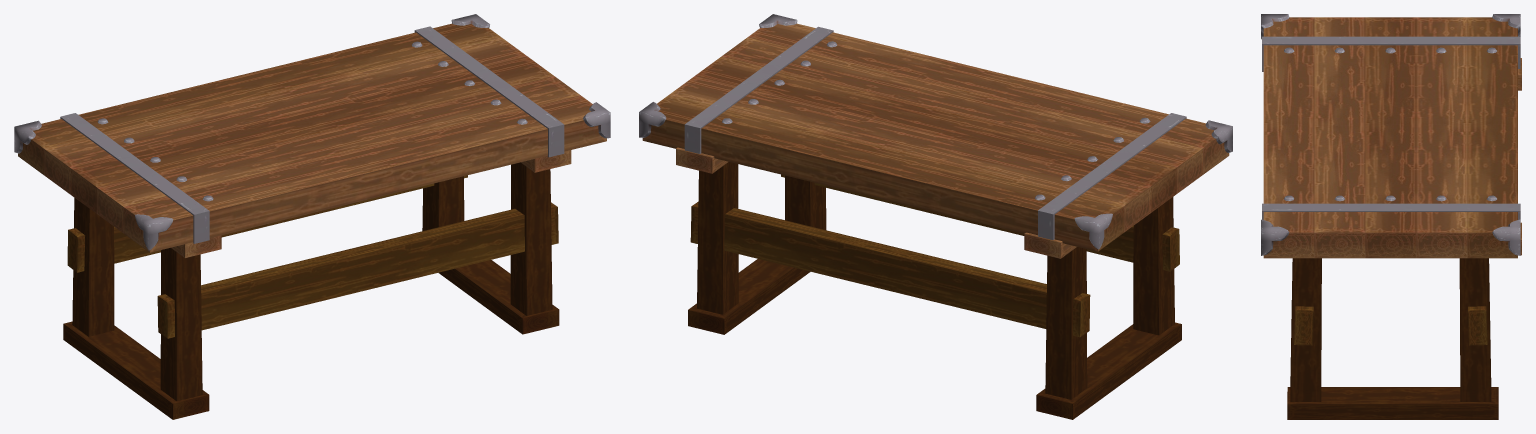
Rendered from Workbench.gltf.
3 renders of one model, left to right at view 1: azimuth 30°, elevation 25°; view 2: azimuth 150°, elevation 25°; view 3: azimuth 270°, elevation 25°, orthographic. The views are drawn at different scales.
Visible parts, largest first — view 1: Workbench; view 2: Workbench; view 3: Workbench.
Part boxes in pixels (x1,y1,x2,y2): Workbench: (14, 14, 610, 419); Workbench: (639, 14, 1232, 419); Workbench: (1261, 14, 1521, 419).
Bounding box in the file's own units: 2.02 × 0.8946 × 1.02.
2 materials, 2 textured.
